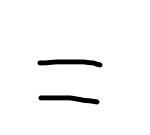eqv: (38, 59, 102, 104)
